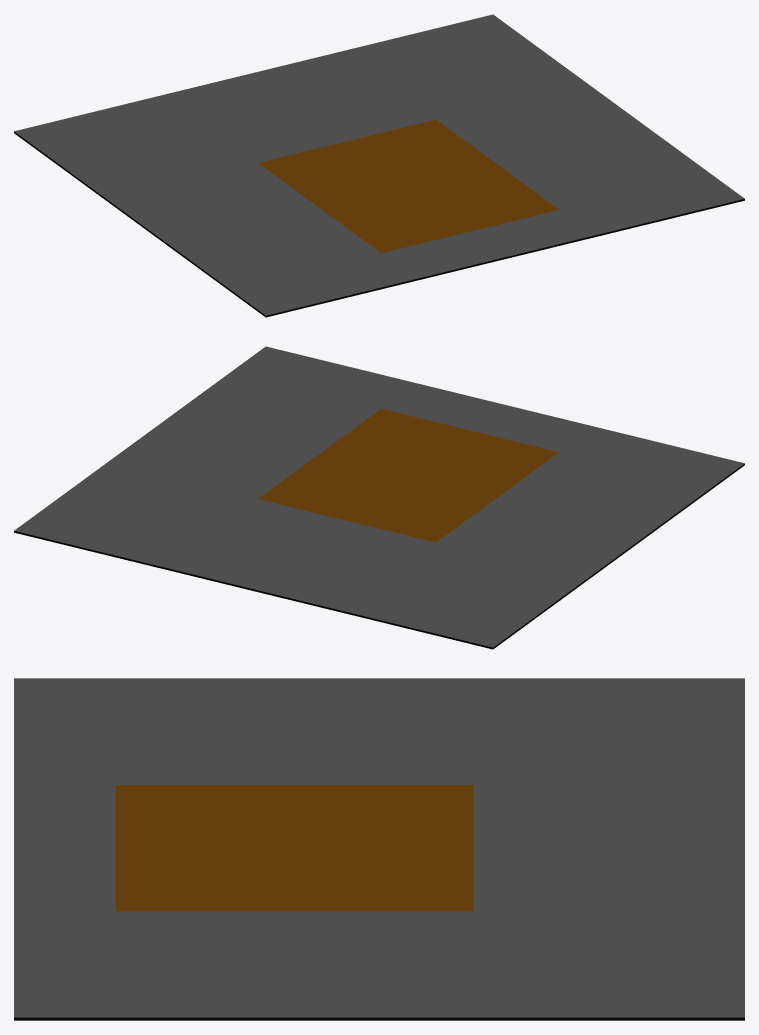
The model's file is SM_BarFloor.FBX.
The picture shows the model from 3 angles, top to bottom: view 1: azimuth 30°, elevation 25°; view 2: azimuth 150°, elevation 25°; view 3: azimuth 270°, elevation 25°; orthographic projection. The views are drawn at different scales.
Parts seen in each view (by area): view 1: Object007; view 2: Object007; view 3: Object007.
Part boxes in pixels (x1=…): Object007: x1=14, y1=14, x2=744, y2=317; Object007: x1=14, y1=346, x2=744, y2=649; Object007: x1=14, y1=678, x2=744, y2=1020.
Size of the model in its own units: 2680 by 10 by 2440.
